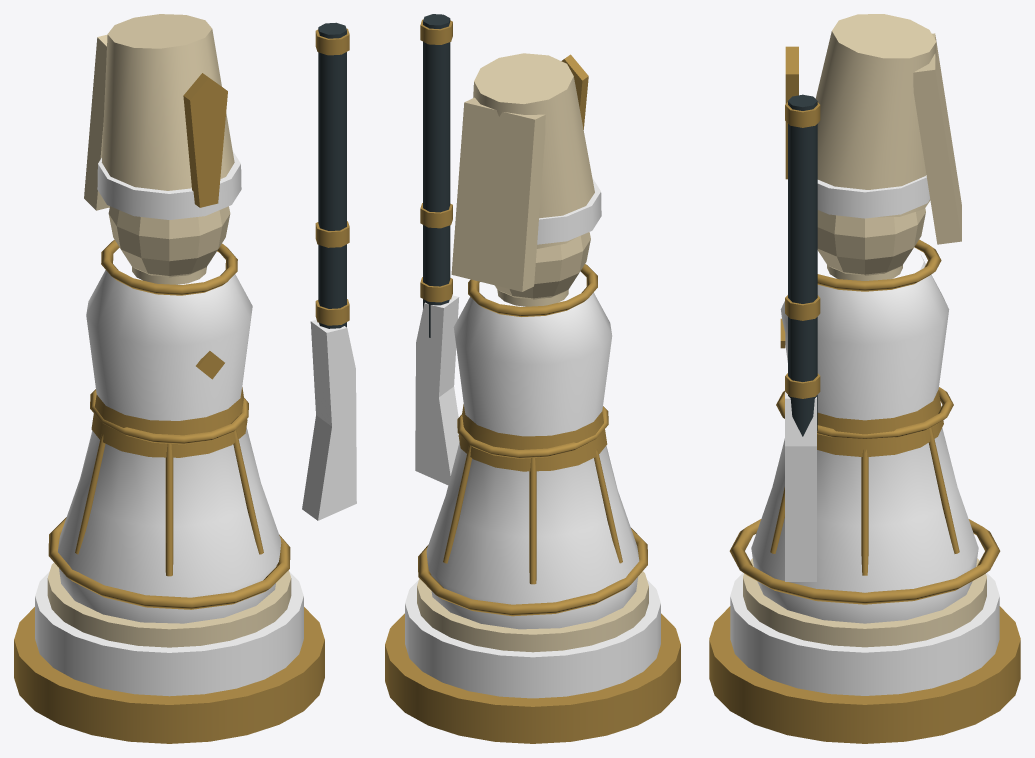
File: janissary.glb
3 views of the same model, side by side, from view 1: azimuth 30°, elevation 25°; view 2: azimuth 150°, elevation 25°; view 3: azimuth 270°, elevation 25° (orthographic). The views are drawn at different scales.
Visible parts, largest first — view 1: Turned enamel robe, Trim plinth, Ivory felt cap, Enamel base, Matchlock butt, Upright matchlock barrel, Ivory base bead, Faceted ivory face, Broad sash, Empty gilt plume holder, Cap band, Trim hem (+8 smaller); view 2: Turned enamel robe, Trim plinth, Folded cap tail, Enamel base, Ivory felt cap, Matchlock butt, Upright matchlock barrel, Ivory base bead, Broad sash, Trim hem, Faceted ivory face, Cap band (+8 smaller); view 3: Turned enamel robe, Ivory felt cap, Trim plinth, Enamel base, Upright matchlock barrel, Ivory base bead, Folded cap tail, Faceted ivory face, Matchlock butt, Trim hem, Broad sash, Cap band (+7 smaller).
Boxes of the visible parts, box(x1,y1,x2,y2) form: Turned enamel robe: box(58, 270, 281, 623); Trim plinth: box(14, 607, 324, 743); Ivory felt cap: box(101, 14, 234, 190); Enamel base: box(35, 572, 303, 696); Matchlock butt: box(302, 320, 356, 520); Upright matchlock barrel: box(318, 22, 346, 328); Ivory base bead: box(47, 562, 291, 647); Faceted ivory face: box(108, 206, 230, 277); Broad sash: box(91, 387, 247, 457); Empty gilt plume holder: box(183, 73, 227, 207); Cap band: box(97, 151, 241, 219); Trim hem: box(48, 517, 290, 609); Turned enamel robe: box(426, 292, 639, 629); Trim plinth: box(385, 613, 680, 743); Folded cap tail: box(451, 97, 545, 291); Enamel base: box(405, 580, 660, 698); Ivory felt cap: box(473, 53, 594, 248); Matchlock butt: box(415, 295, 459, 484); Upright matchlock barrel: box(423, 14, 450, 337); Ivory base bead: box(417, 571, 648, 652); Broad sash: box(458, 404, 607, 471); Trim hem: box(418, 528, 647, 616); Faceted ivory face: box(495, 232, 590, 299); Cap band: box(537, 178, 601, 244); Turned enamel robe: box(751, 255, 978, 623); Ivory felt cap: box(815, 14, 936, 217); Trim plinth: box(709, 606, 1020, 743); Enamel base: box(730, 573, 999, 695); Upright matchlock barrel: box(788, 94, 817, 436); Ivory base bead: box(743, 558, 986, 647); Folded cap tail: box(913, 33, 961, 244); Faceted ivory face: box(817, 208, 925, 275); Matchlock butt: box(785, 392, 816, 581); Trim hem: box(729, 519, 1000, 604); Broad sash: box(817, 390, 943, 456); Cap band: box(817, 175, 929, 218).
Size of the model in its own units: 0.4915 by 1.07 by 0.4689.
